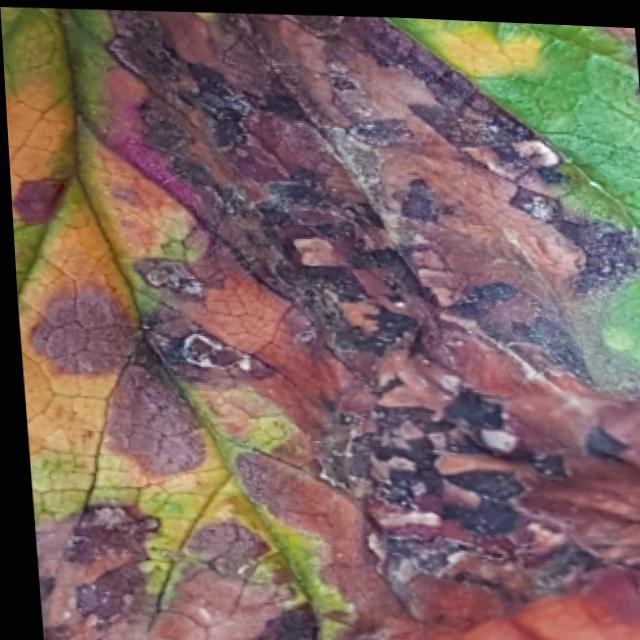Angular Leafspot: (9, 7, 640, 640)
